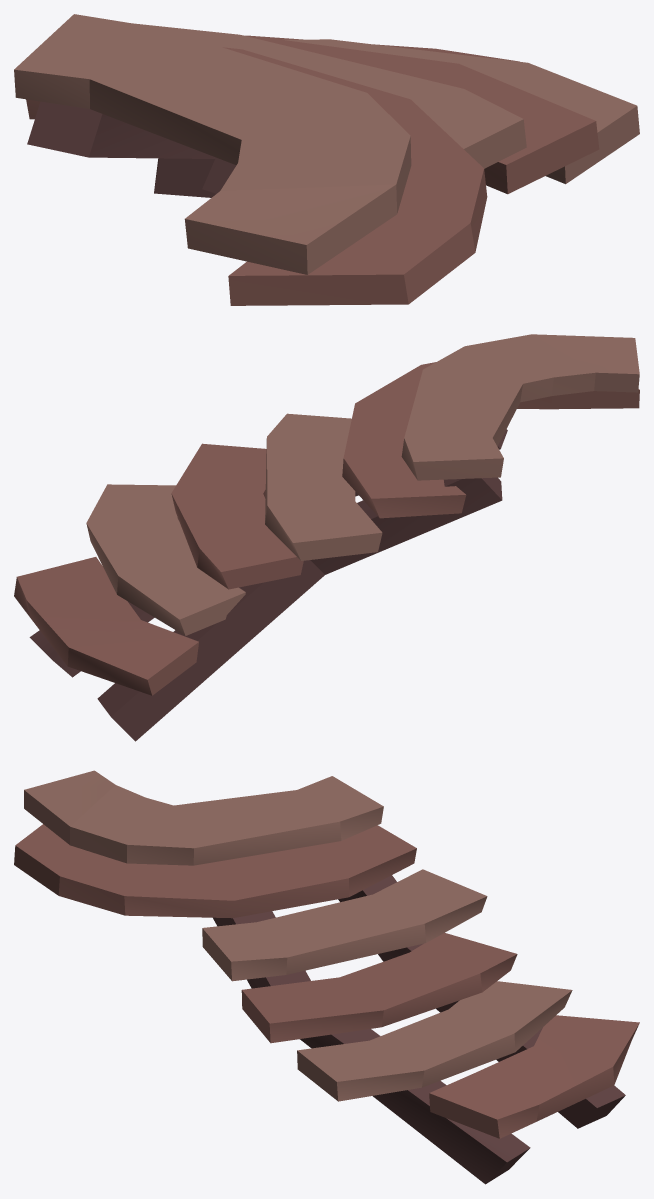
Rendered from CauldronStaircase.FBX.
The picture shows the model from 3 angles, top to bottom: view 1: azimuth 30°, elevation 25°; view 2: azimuth 150°, elevation 25°; view 3: azimuth 270°, elevation 25°; orthographic projection. The views are drawn at different scales.
Visible parts, largest first — view 1: CauldronStaircase; view 2: CauldronStaircase; view 3: CauldronStaircase.
Part boxes in pixels (<box>): CauldronStaircase: <box>14,14,639,305</box>; CauldronStaircase: <box>14,334,639,741</box>; CauldronStaircase: <box>14,770,639,1184</box>.
Bounding box in the file's own units: 183 × 98.71 × 242.
1 material, 1 textured.
